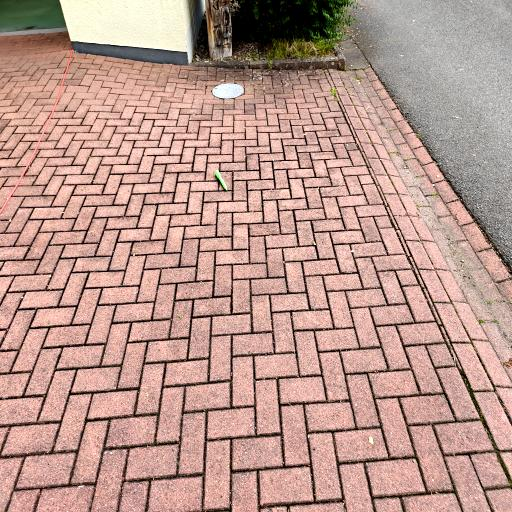Probe-Detection: (215, 170, 228, 191)
